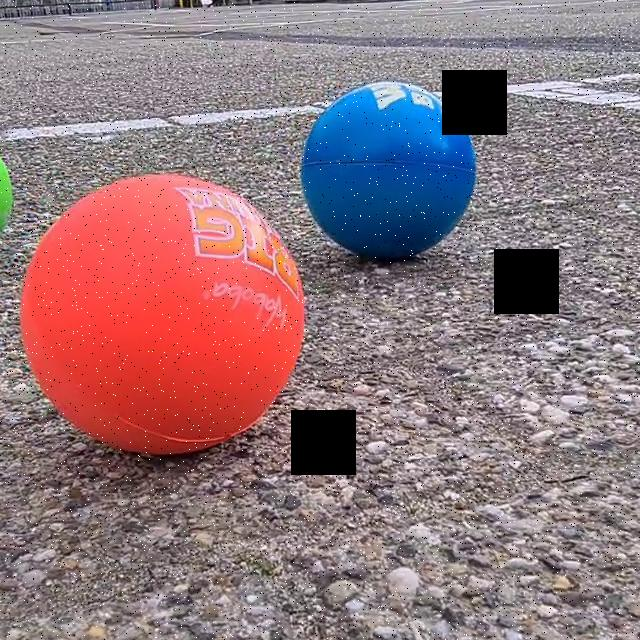ball: (299, 113, 480, 272)
